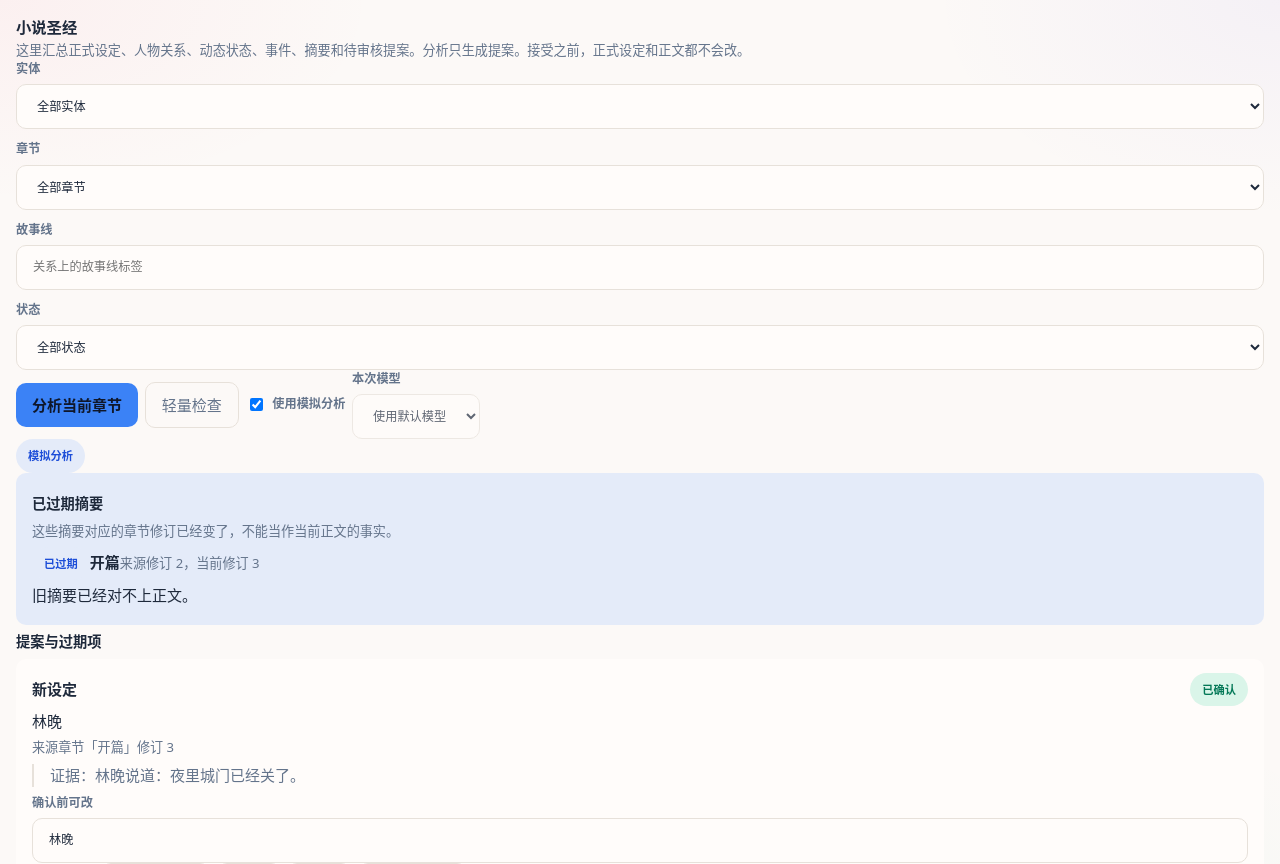
Test: MemoryPanel › runs a light check without treating it as a full model analysis
The width and height of the screenshot is (1280, 864).
What coordinates should you click on to do the following:
click the button "轻量检查"
I would click on:
 (192, 405)
Its box is 145,382 -> 239,428.
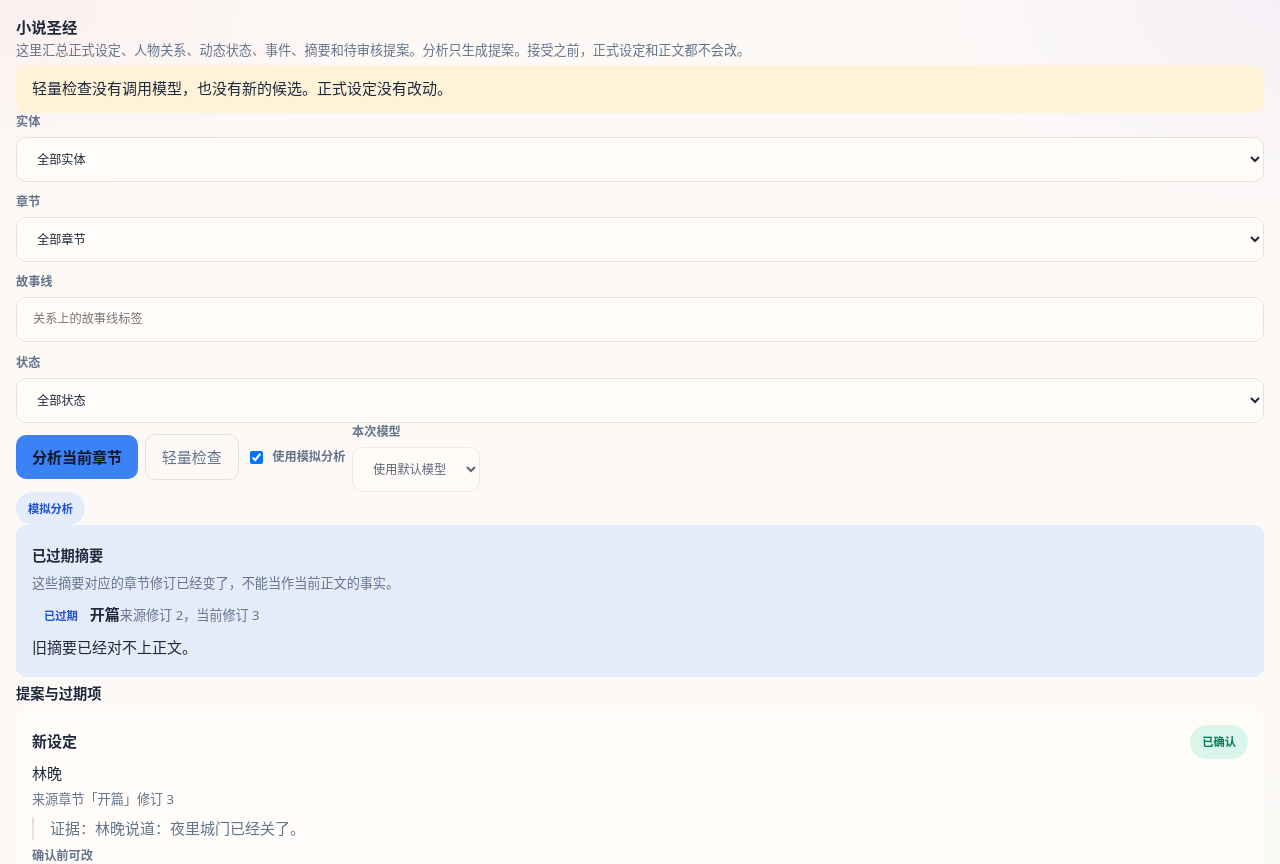
Check: the text "轻量检查没有调用模型，也没有新的候选。正式设定没有改动。" is shown, box 16,65 -> 1264,113
